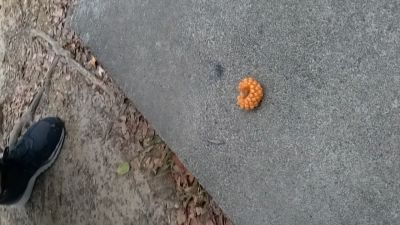eggs: (235, 77, 264, 112)
